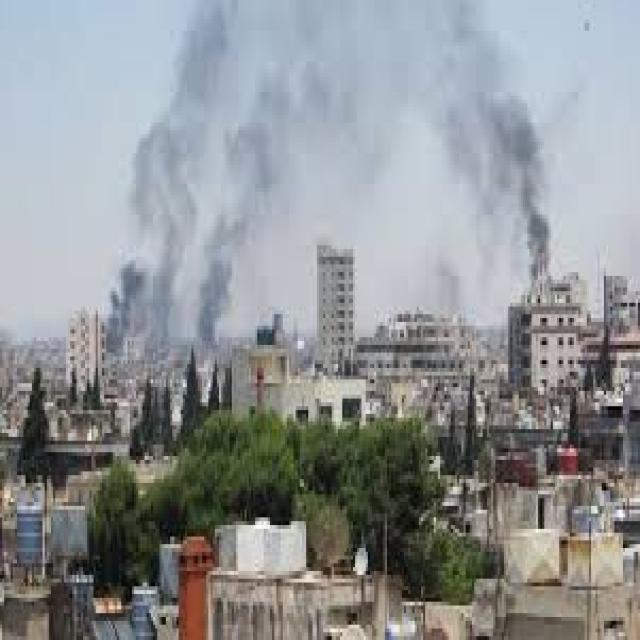Smoke: (109, 0, 553, 344)
